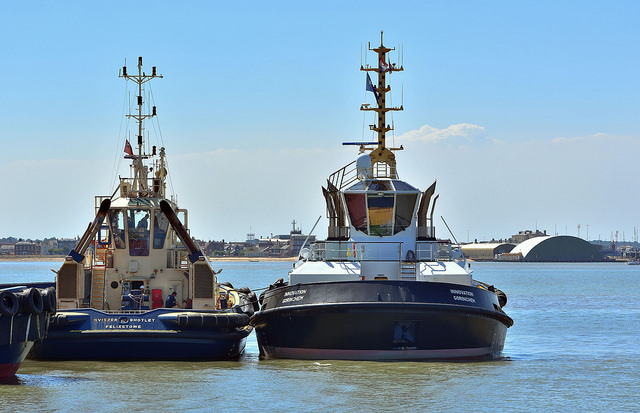tug_boat: (246, 45, 529, 362), (28, 57, 253, 376)
